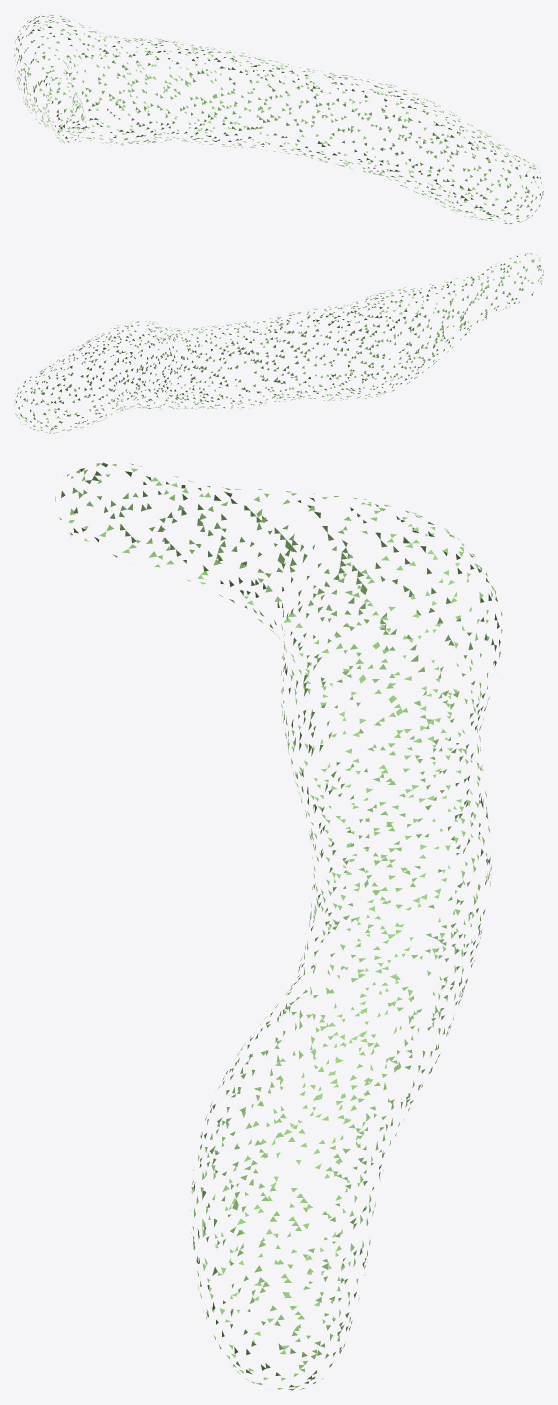
The model's file is morph_014.glb.
The picture shows the model from 3 angles, top to bottom: view 1: azimuth 30°, elevation 25°; view 2: azimuth 150°, elevation 25°; view 3: azimuth 270°, elevation 25°; orthographic projection. The views are drawn at different scales.
Bounding box in the file's own units: 108 × 54.76 × 44.17.
